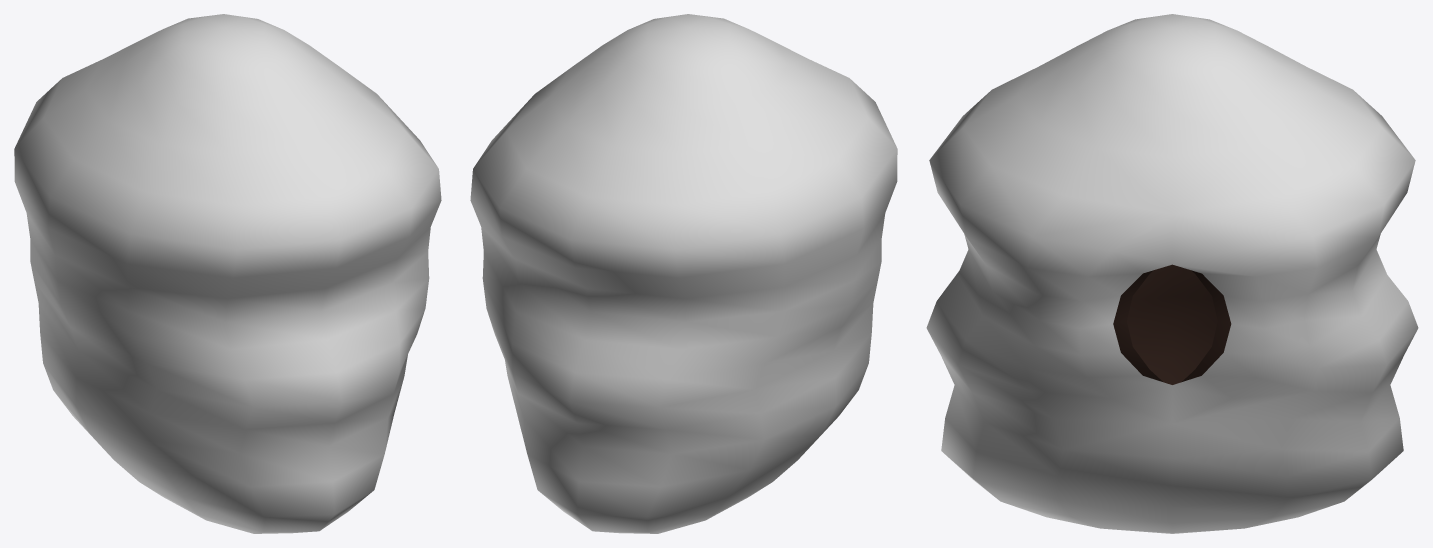
File: SuperDragone_OBS3.fbx
3 views of the same model, side by side, from view 1: azimuth 30°, elevation 25°; view 2: azimuth 150°, elevation 25°; view 3: azimuth 270°, elevation 25° (orthographic). The views are drawn at different scales.
Parts seen in each view (by area): view 1: Beehive.001; view 2: Beehive.001; view 3: Beehive.001.
Part boxes in pixels (x1,y1,x2,y2): Beehive.001: (14,14,441,533); Beehive.001: (470,14,897,533); Beehive.001: (926,14,1418,533).
Bounding box in the file's own units: 20.04 × 26.36 × 23.9.
